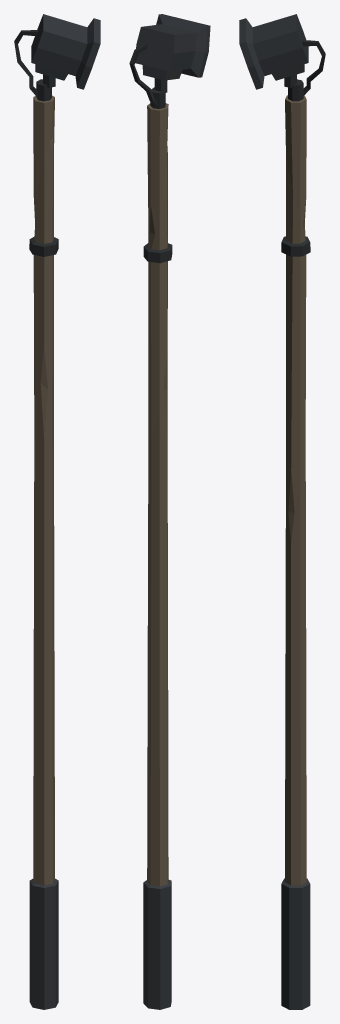
The model's file is SM_Prop_LightPole_01.glb.
3 views of the same model, side by side, from view 1: azimuth 90°, elevation 25°; view 2: azimuth 150°, elevation 25°; view 3: azimuth 270°, elevation 25° (orthographic).
Visible parts, largest first — view 1: SM_Prop_LightPole_01; view 2: SM_Prop_LightPole_01; view 3: SM_Prop_LightPole_01.
Part boxes in pixels (x1,y1,x2,y2): SM_Prop_LightPole_01: [14, 14, 100, 1009]; SM_Prop_LightPole_01: [129, 14, 210, 1009]; SM_Prop_LightPole_01: [239, 14, 325, 1009].
Size of the model in its own units: 0.5619 by 9.82 by 0.782.
Materials: 1 (1 with a texture image).
